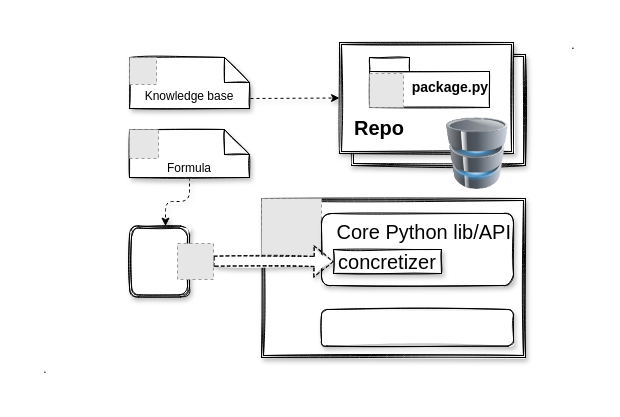
This 620x417 diagram has some shape labels left out. Grey dashed boxes stand in for pictures. Each missing label, with the centre of its shape:
CLI: [418,328]
spec: [160,263]
